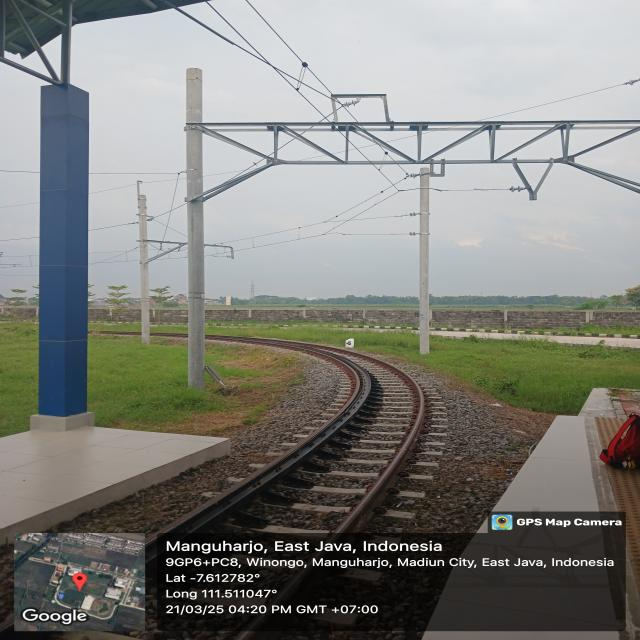rail-detection: (146, 336, 371, 564), (328, 351, 425, 540), (275, 561, 312, 604)
